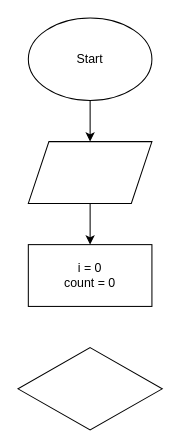
Image size: 180x448. Some labels were removed from this diagram. The centre of each missing label's shape, as x and y in pixels:
i < array.Length: the point at 89,388
Input array[] resultArray[]: the point at 89,172
